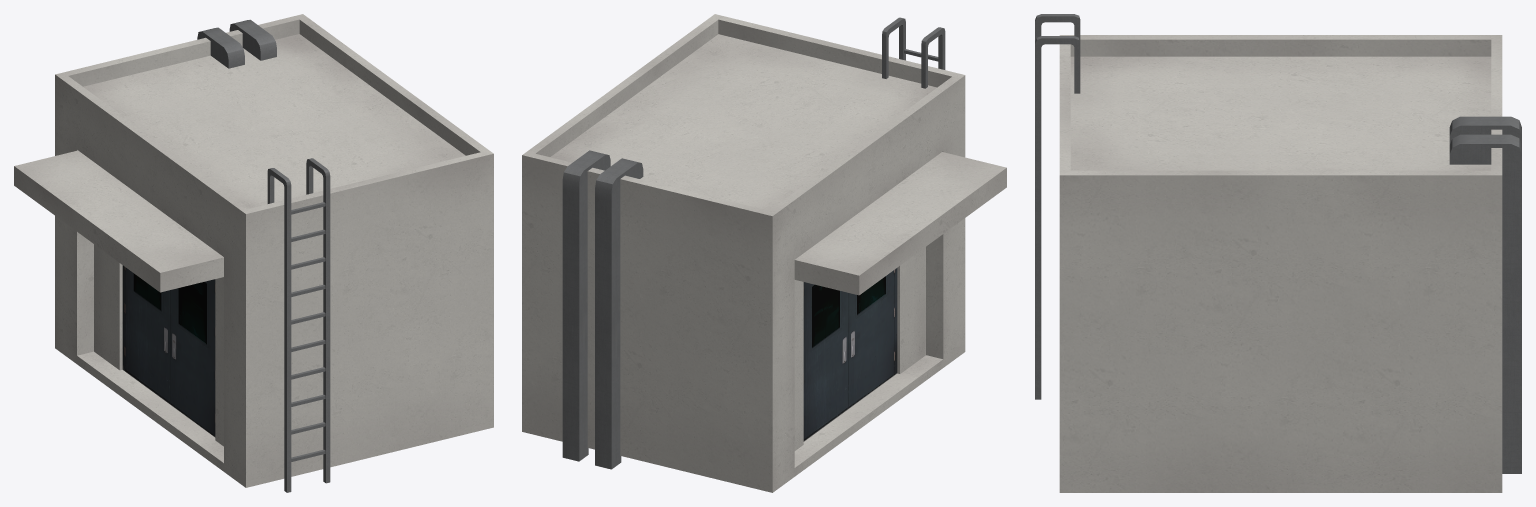
The model's file is room02.dae.
3 renders of one model, left to right at view 1: azimuth 30°, elevation 25°; view 2: azimuth 150°, elevation 25°; view 3: azimuth 270°, elevation 25°, orthographic. The views are drawn at different scales.
Parts seen in each view (by area): view 1: room02; view 2: room02; view 3: room02.
Boxes of the visible parts, x1,y1,x2,y2 form: room02: (14,14,493,492); room02: (522,14,1006,492); room02: (1035,14,1521,492).
Size of the model in its own units: 3.77 by 3.64 by 4.4.
